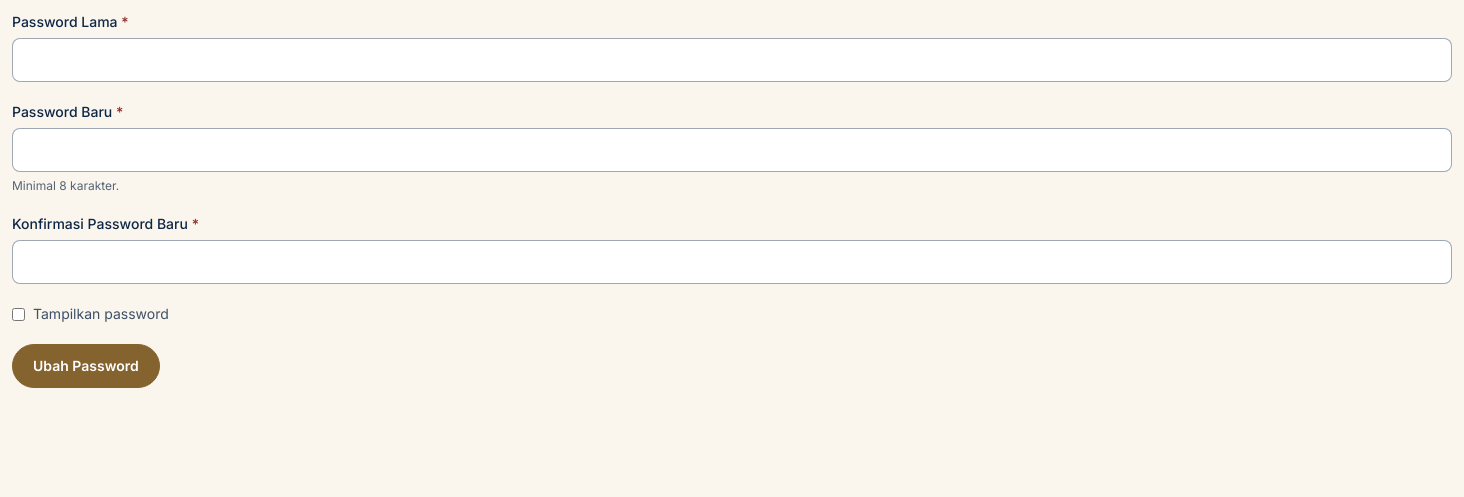
Scenario: FormPassword (FR-AKN-09, OQ-32) › FR_AKN_09_password_lama_salah_per_isian
Type "salah-123" into the password field labelled "Password Lama *" at {"x": 732, "y": 60}, box [12,38,1452,82]
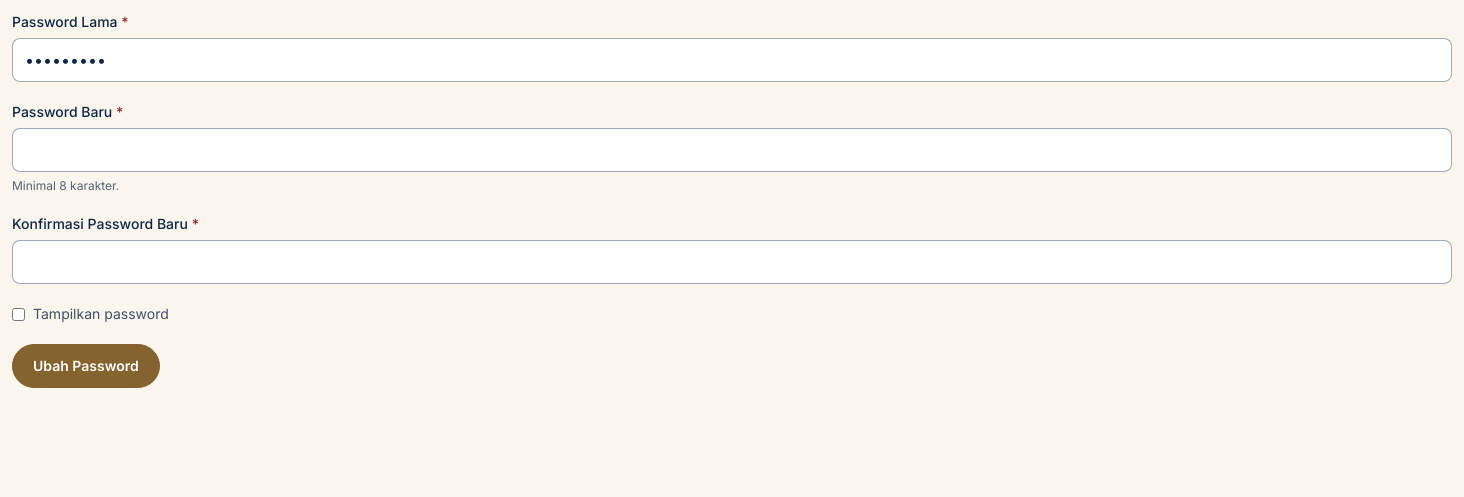
Type "baru-12345" into the password field labelled "Password Baru *" at {"x": 732, "y": 150}, box [12,128,1452,172]
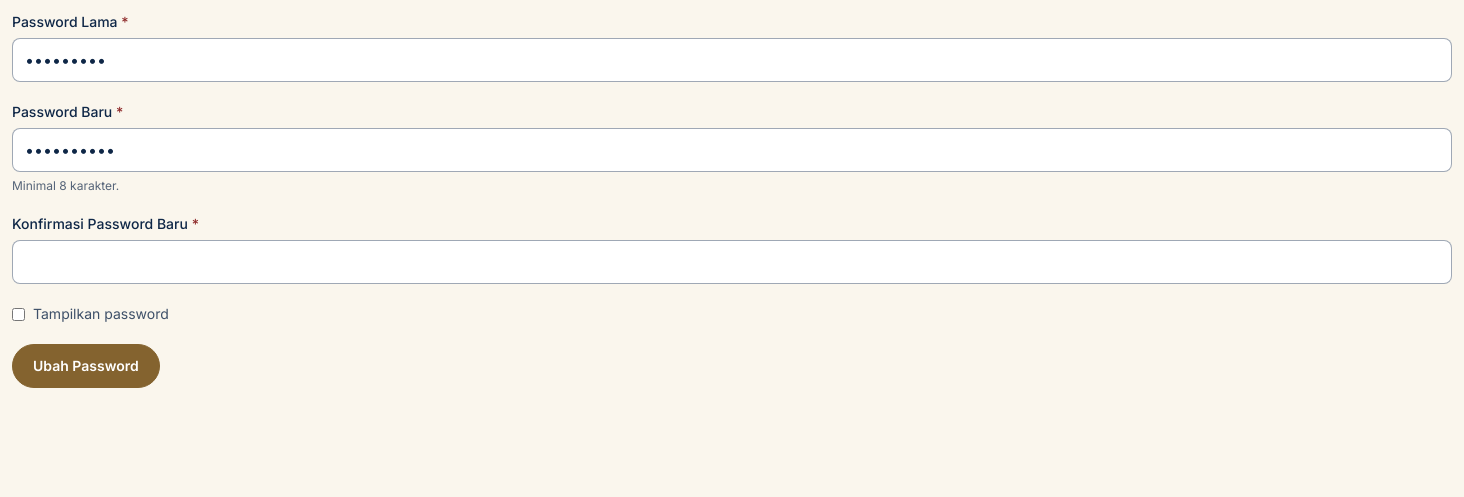
Type "baru-12345" into the password field labelled "Konfirmasi Password Baru *" at {"x": 732, "y": 262}, box [12,240,1452,284]
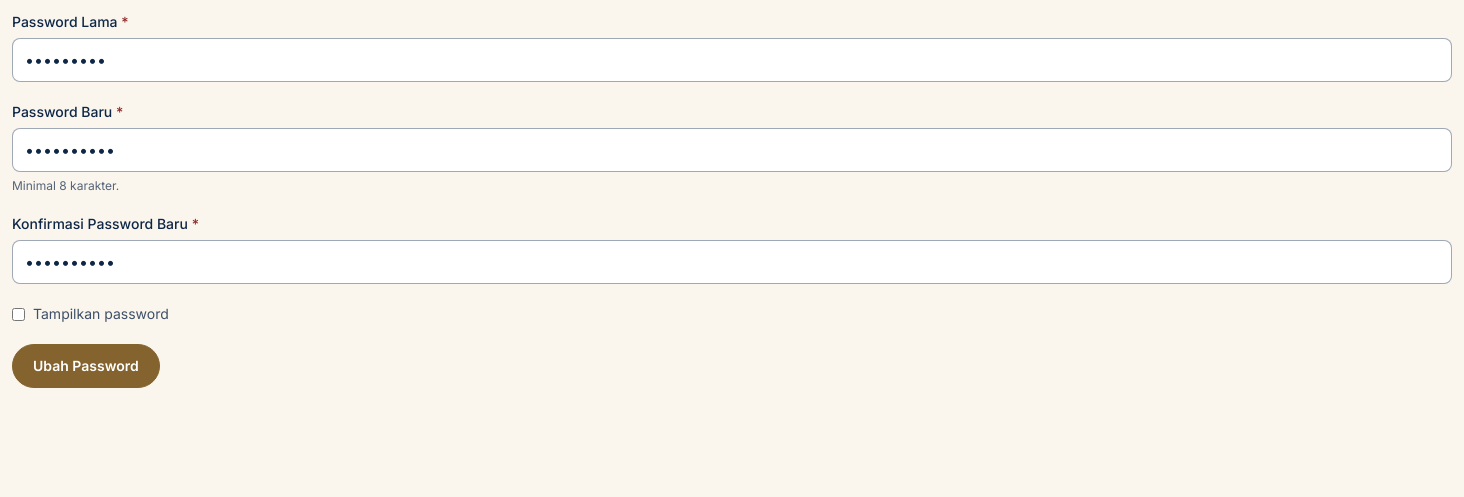
Click the button "Ubah Password" at {"x": 86, "y": 366}, box [12,344,160,388]
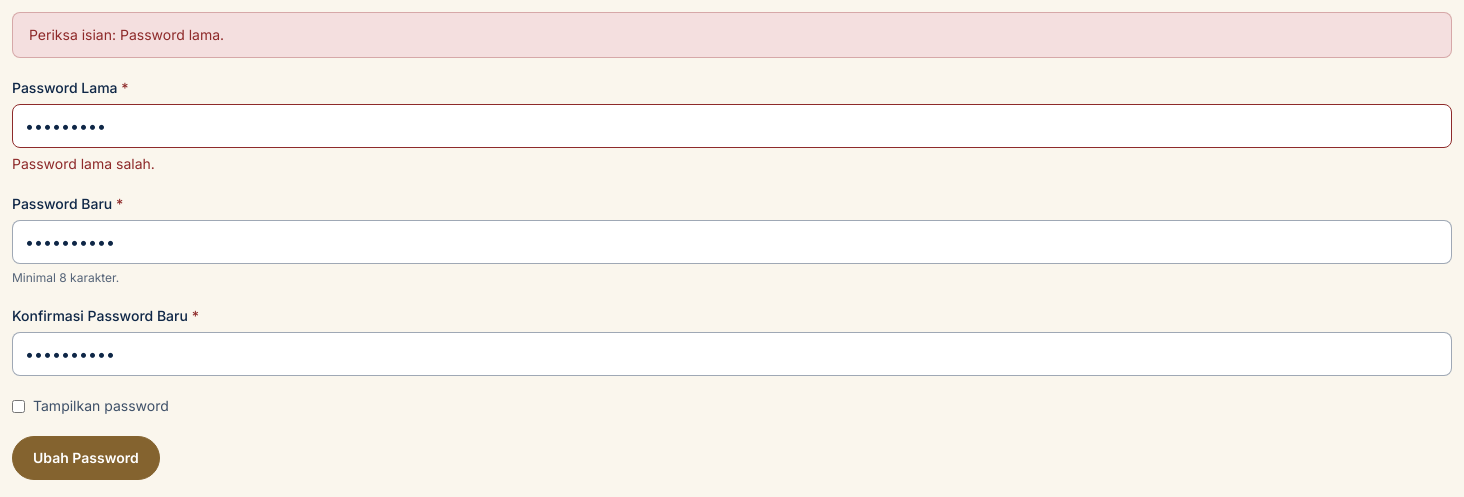
Expected: the text "Password lama salah." is shown, [12,155,155,172]
